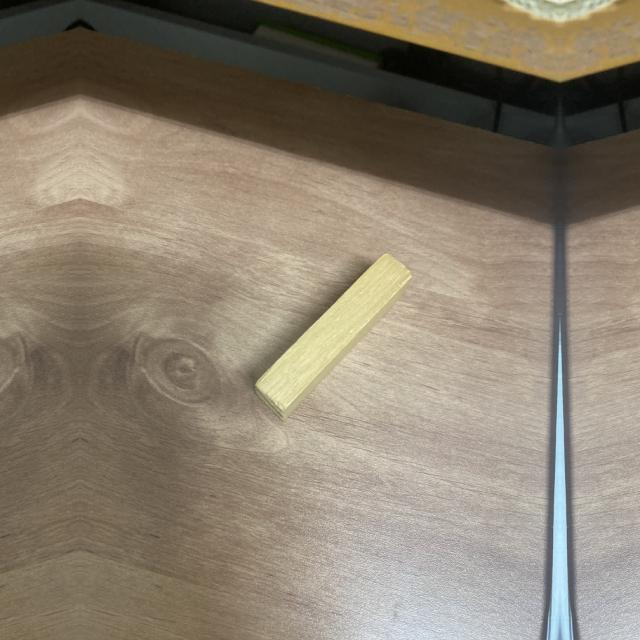jenga: (254, 255, 412, 419)
